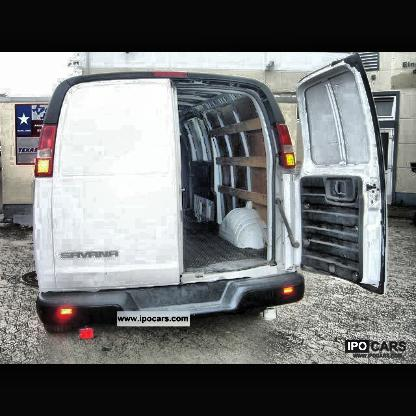Chevrolet Express Cargo Van 2007: (36, 54, 389, 338)
